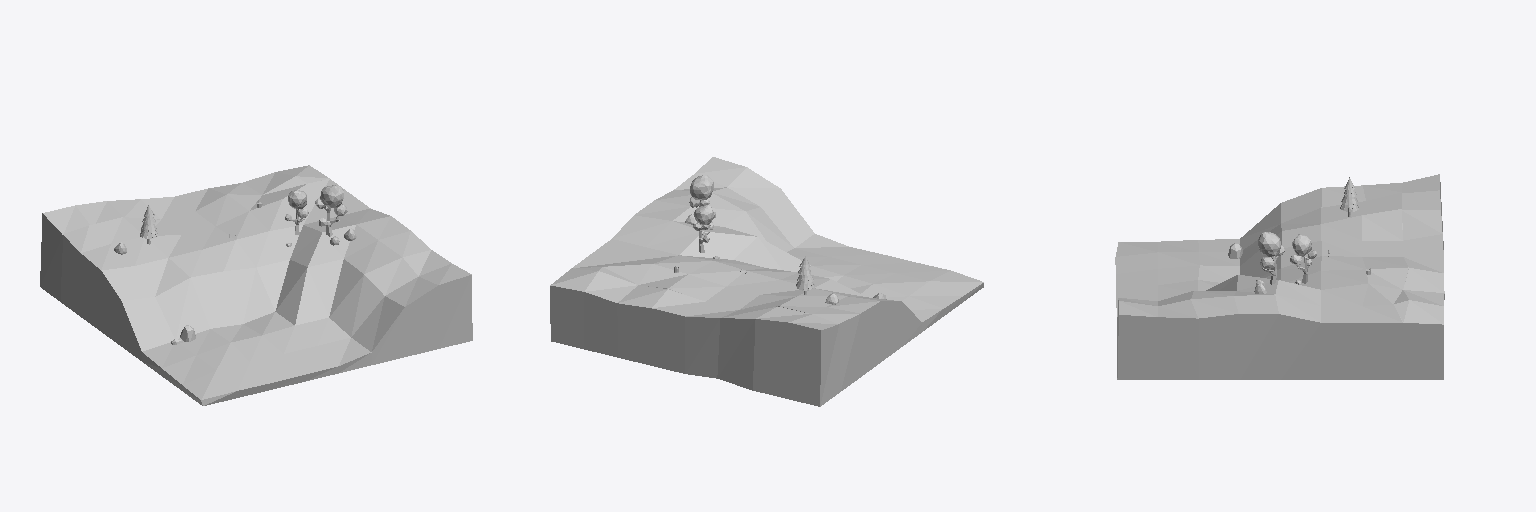
Rendered from SceneDraft2Centered.obj.
3 renders of one model, left to right at view 1: azimuth 30°, elevation 25°; view 2: azimuth 150°, elevation 25°; view 3: azimuth 270°, elevation 25°, orthographic.
Parts seen in each view (by area): view 1: Plane.001, Tree1.002_Cube.001, Tree1.001_Cube.000; view 2: Plane.001, Tree1.002_Cube.001, Tree1.001_Cube.000; view 3: Plane.001, Tree1.002_Cube.001, Tree1.001_Cube.000.
Part boxes in pixels (bbox=[...]): Plane.001: bbox=[40, 165, 472, 405]; Tree1.002_Cube.001: bbox=[315, 185, 347, 236]; Tree1.001_Cube.000: bbox=[285, 190, 308, 234]; Plane.001: bbox=[550, 157, 983, 406]; Tree1.002_Cube.001: bbox=[689, 175, 715, 218]; Tree1.001_Cube.000: bbox=[693, 205, 713, 252]; Plane.001: bbox=[1115, 174, 1444, 379]; Tree1.002_Cube.001: bbox=[1258, 232, 1284, 284]; Tree1.001_Cube.000: bbox=[1290, 234, 1316, 283].
Size of the model in its own units: 69.05 by 28.39 by 72.57.